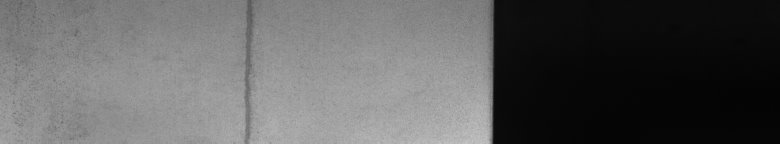hd: (240, 4, 259, 136)
